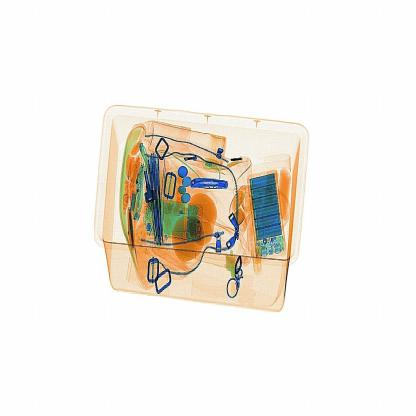knife: (188, 171, 234, 201)
